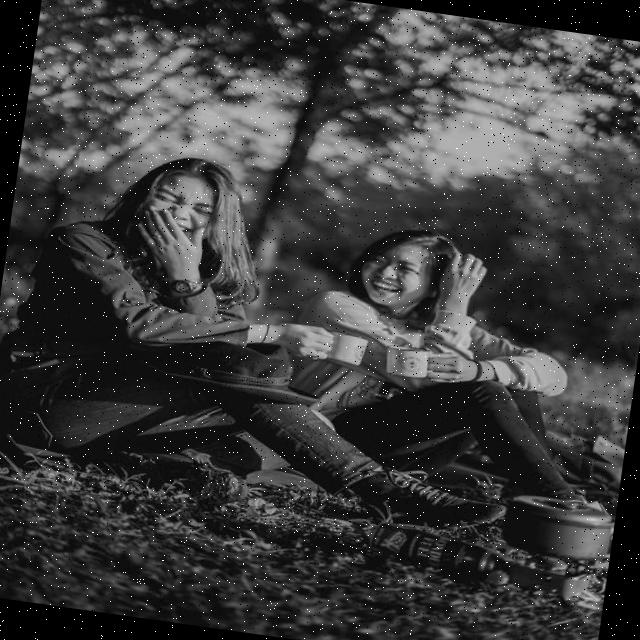Happiness: (142, 170, 224, 251), (357, 235, 440, 313)
